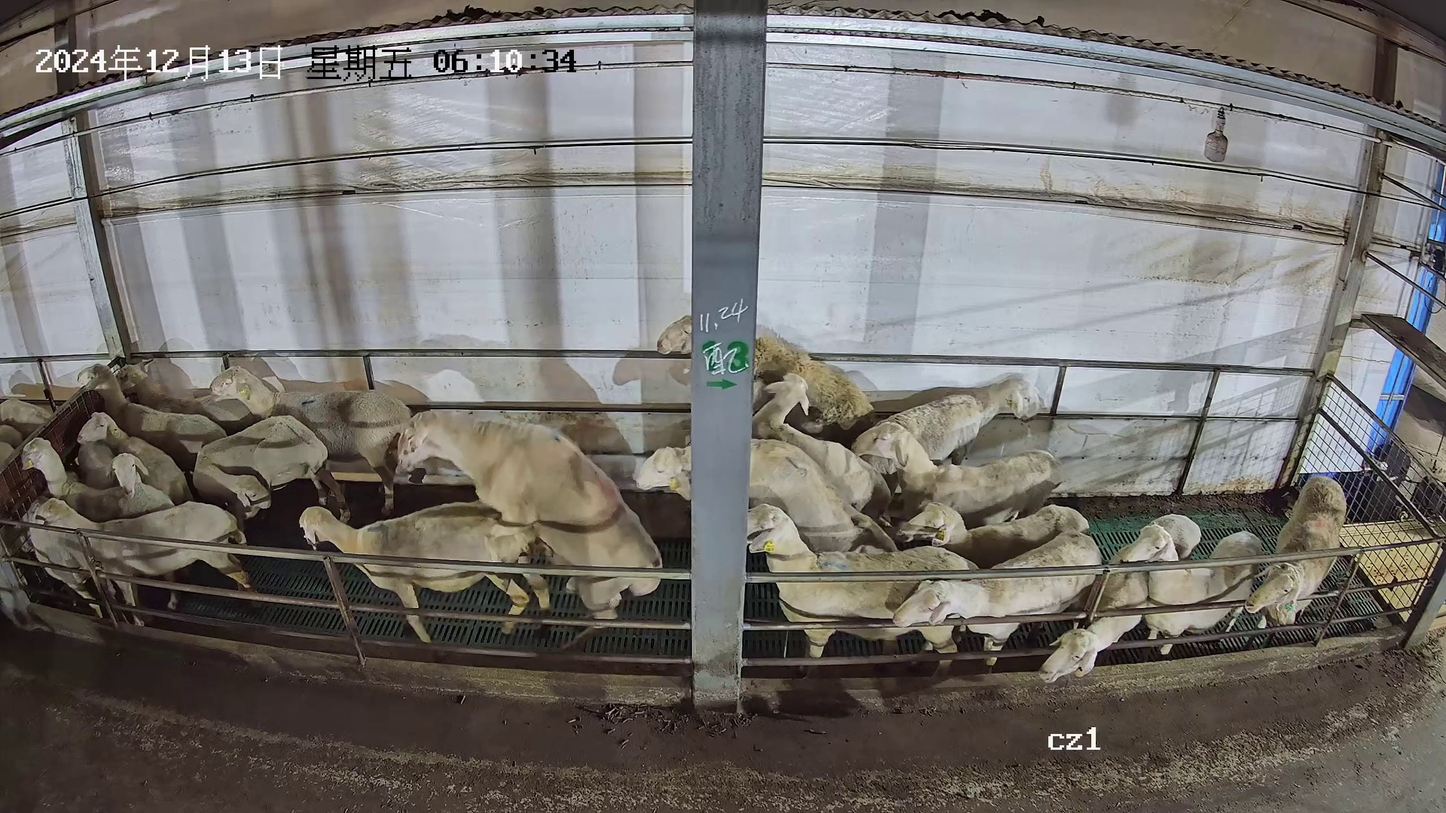Smounting: (293, 407, 663, 649)
mounted: (298, 498, 558, 646)
